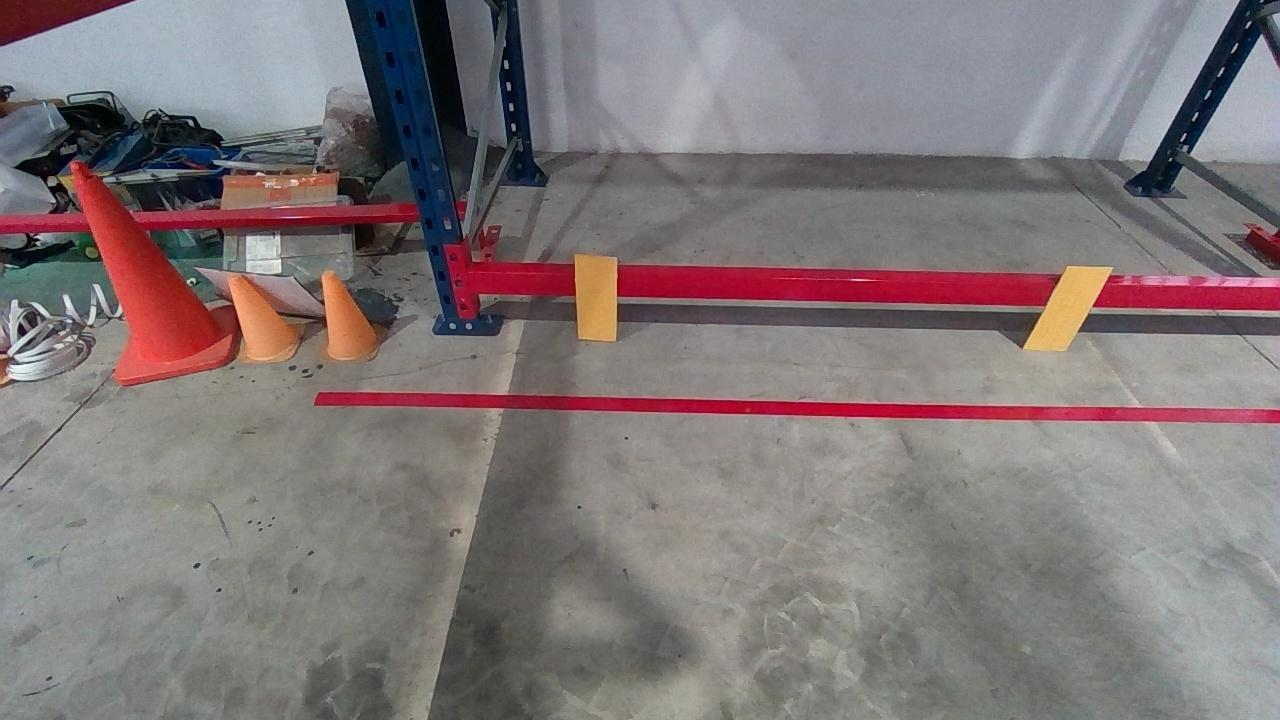h_rack: (470, 272, 1279, 312)
orange_strip: (1022, 264, 1119, 349), (573, 253, 617, 340)
red_line: (318, 391, 1278, 422)
